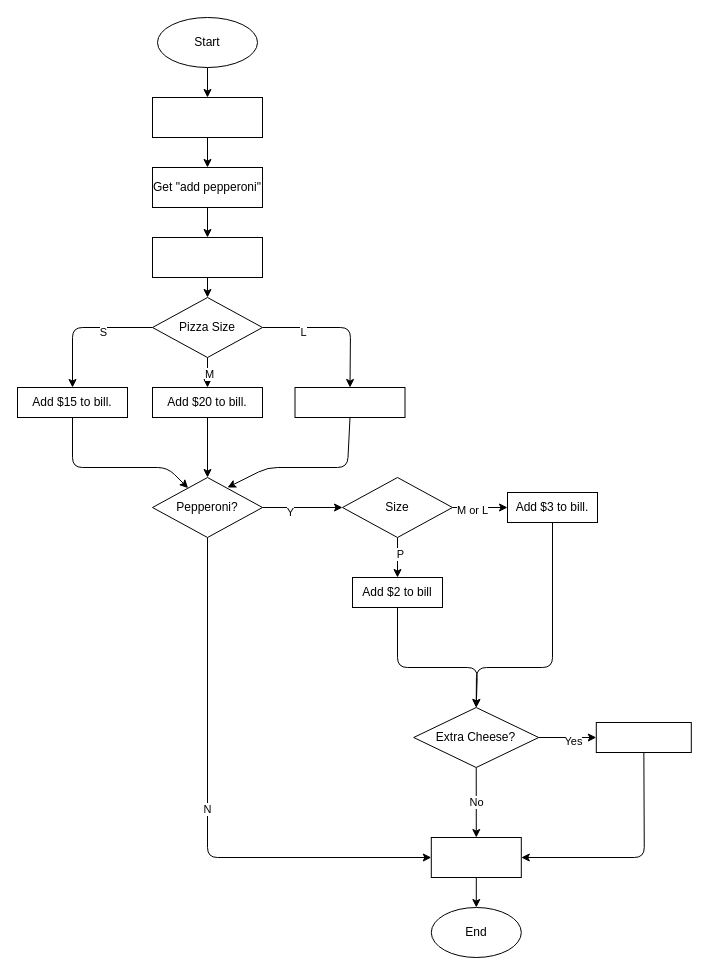
Image size: 709x975. Some labels were removed from this diagram. Each missing label, with the centre of its shape:
Add $25 to bill.: (x=349, y=402)
Add + $1 to bill.: (x=643, y=737)
Get "extra cheese": (x=207, y=257)
Get Pizza Size: (x=207, y=117)
Print final bill.: (x=475, y=857)
